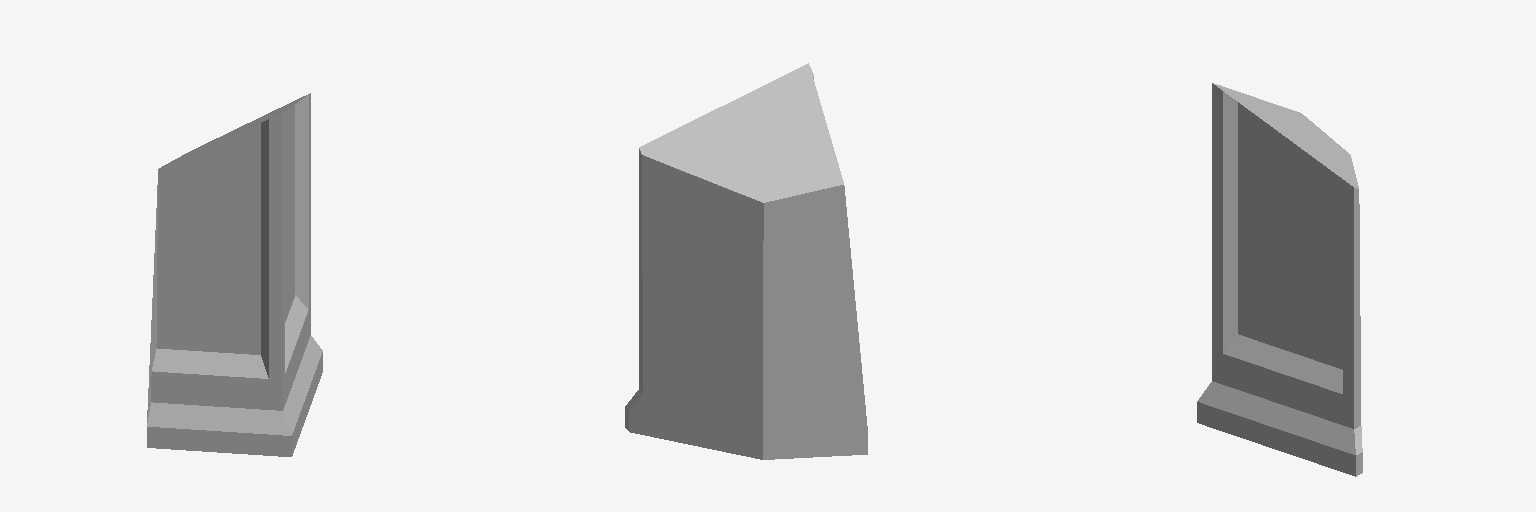
The model's file is Debris14.obj.
3 renders of one model, left to right at view 1: azimuth 30°, elevation 25°; view 2: azimuth 150°, elevation 25°; view 3: azimuth 270°, elevation 25°, orthographic.
Visible parts, largest first — view 1: Debris14; view 2: Debris14; view 3: Debris14.
Part boxes in pixels (x1,y1,x2,y2): Debris14: (147, 93, 322, 456); Debris14: (625, 63, 867, 459); Debris14: (1197, 83, 1362, 476).
Bounding box in the file's own units: 5.09 × 7.87 × 3.49.